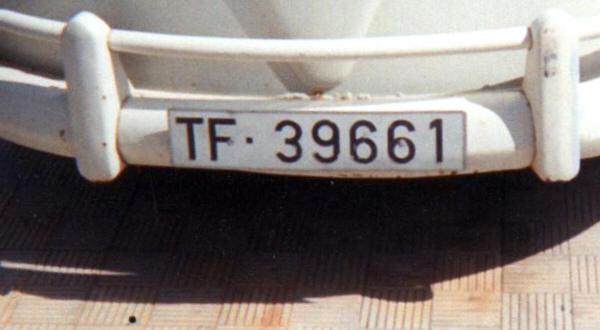license_plate: (167, 107, 465, 169)
